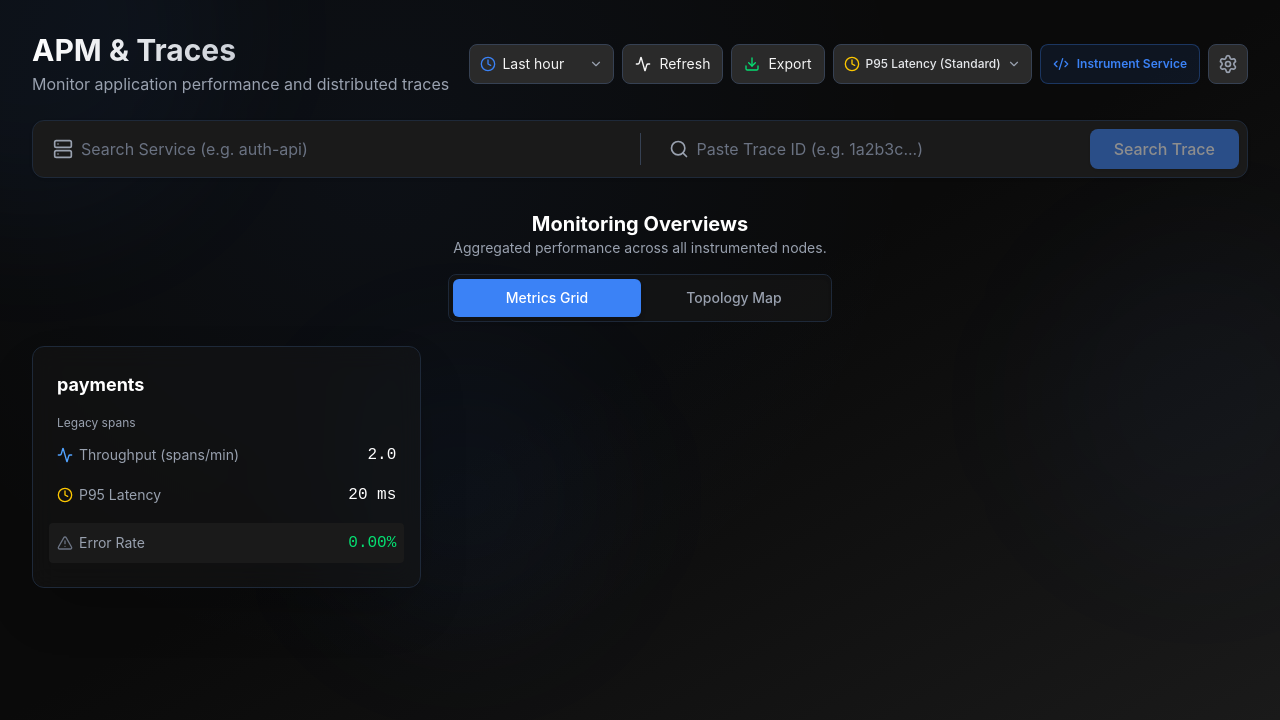
Test: APM dashboard characterization › opens a service, auto-selects its trace, and returns to overview
The image size is (1280, 720).
expect the heading "payments" is shown: met, box [57,371,144,399]
Click the button named "Inspect payments" at (227, 467), box [33,347,420,587]
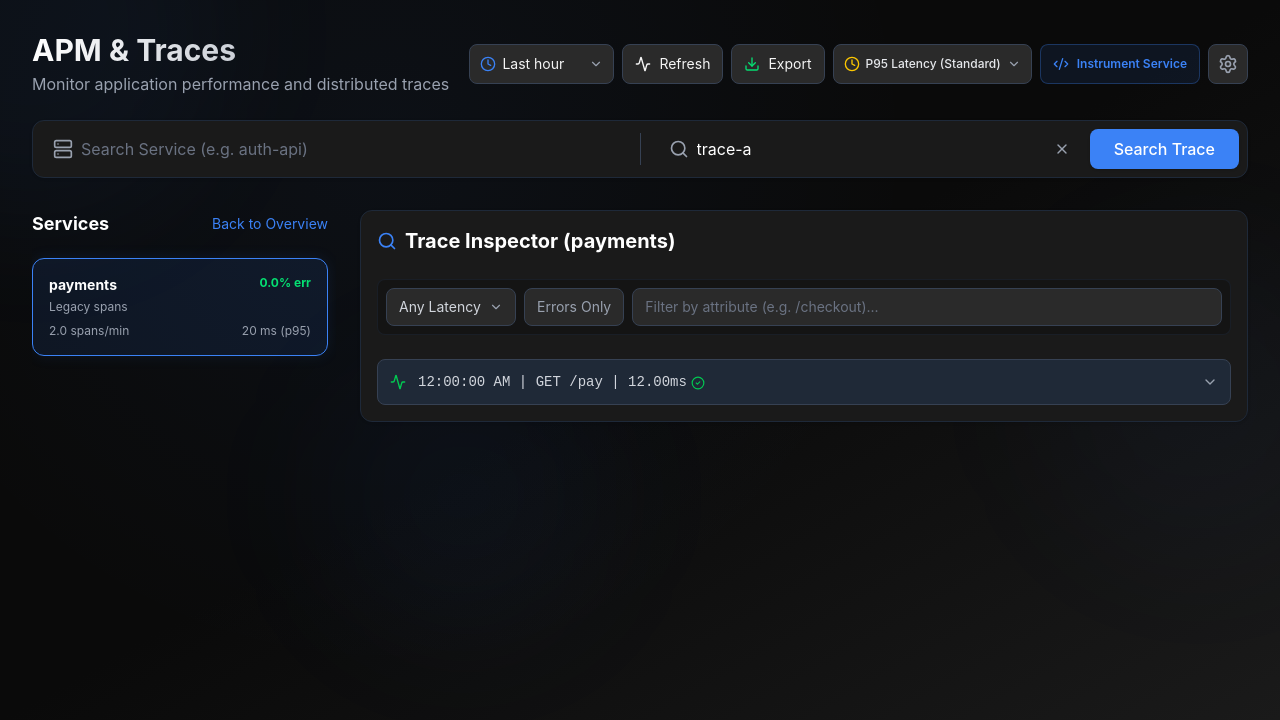
expect the text "Trace Inspector (payments)" is shown: met, box [405,227,676,255]
Click the button "Back to Overview" at (270, 224), box [212,214,328,234]
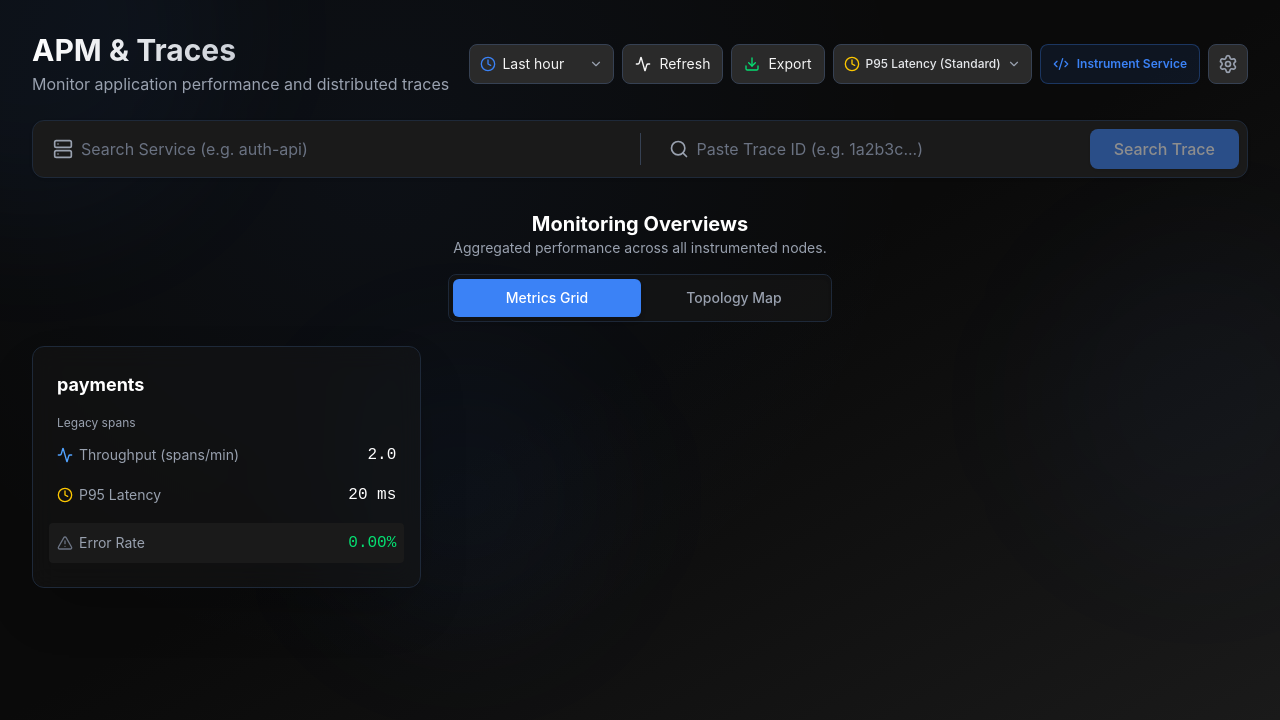
expect the heading "Monitoring Overviews" is shown: met, box [532,212,748,236]
